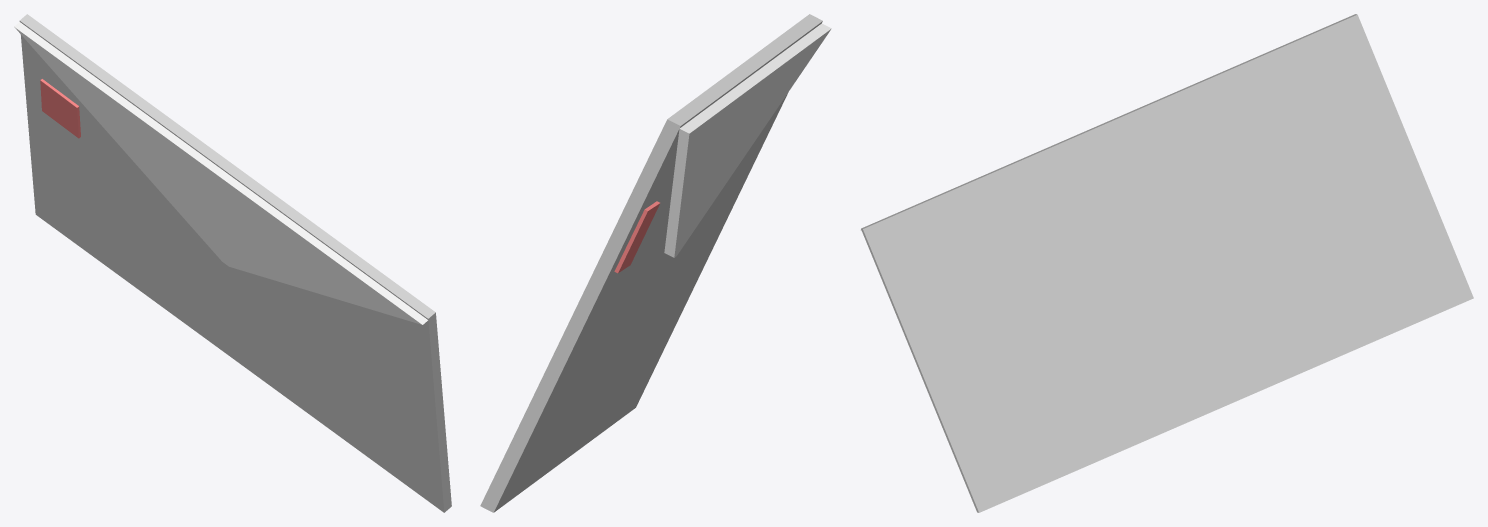
Rendered from letter-old.fbx.
3 views of the same model, side by side, from view 1: azimuth 30°, elevation 25°; view 2: azimuth 150°, elevation 25°; view 3: azimuth 270°, elevation 25° (orthographic). The views are drawn at different scales.
Parts seen in each view (by area): view 1: pCube7, pCube8; view 2: pCube7, pCube8; view 3: pCube7.
Boxes of the visible parts, left/top/right/bottom form: pCube7: left=14, top=14, right=451, bottom=512; pCube8: left=40, top=79, right=80, bottom=138; pCube7: left=480, top=14, right=831, bottom=512; pCube8: left=614, top=201, right=660, bottom=273; pCube7: left=860, top=14, right=1473, bottom=512.
Bounding box in the file's own units: 7 × 11.23 × 15.85.
